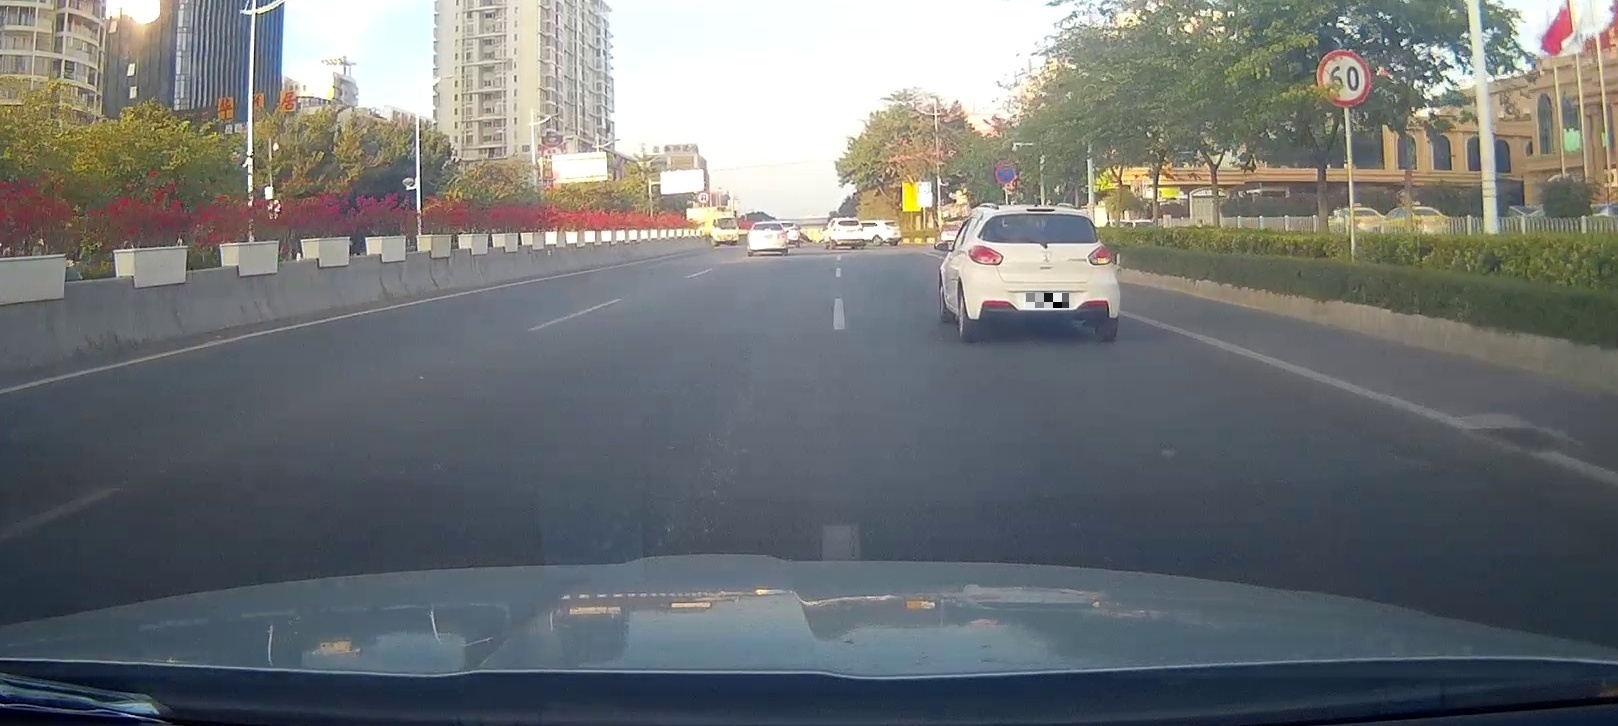L_light: (968, 245, 1004, 266)
R_light: (1088, 245, 1113, 265)
T_light: (1026, 208, 1055, 212)
day-right: (965, 204, 1121, 338)
plate_1: (1026, 293, 1069, 308)
